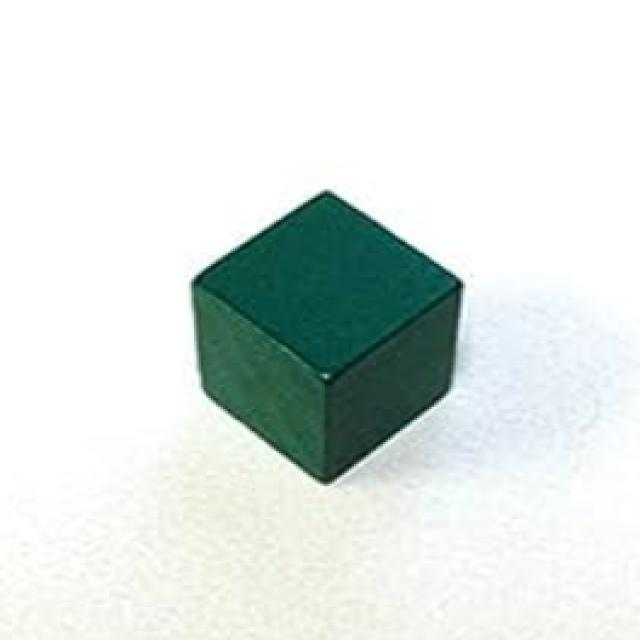green cube: (190, 189, 463, 485)
